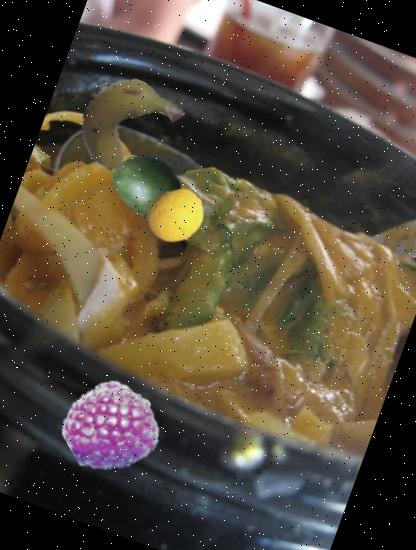Banana: (68, 66, 190, 188)
Cantaloupe: (138, 178, 214, 254)
Mango: (101, 139, 193, 231)
Raspberry: (51, 368, 169, 486)
